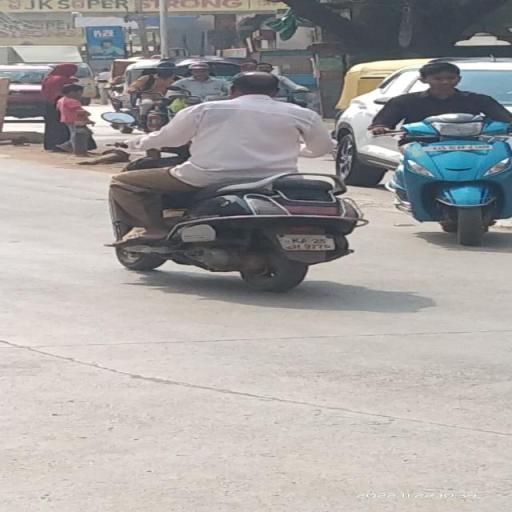bike: (90, 66, 364, 292)
numberplate: (282, 233, 336, 250)
withouthelmet: (234, 72, 279, 96)
